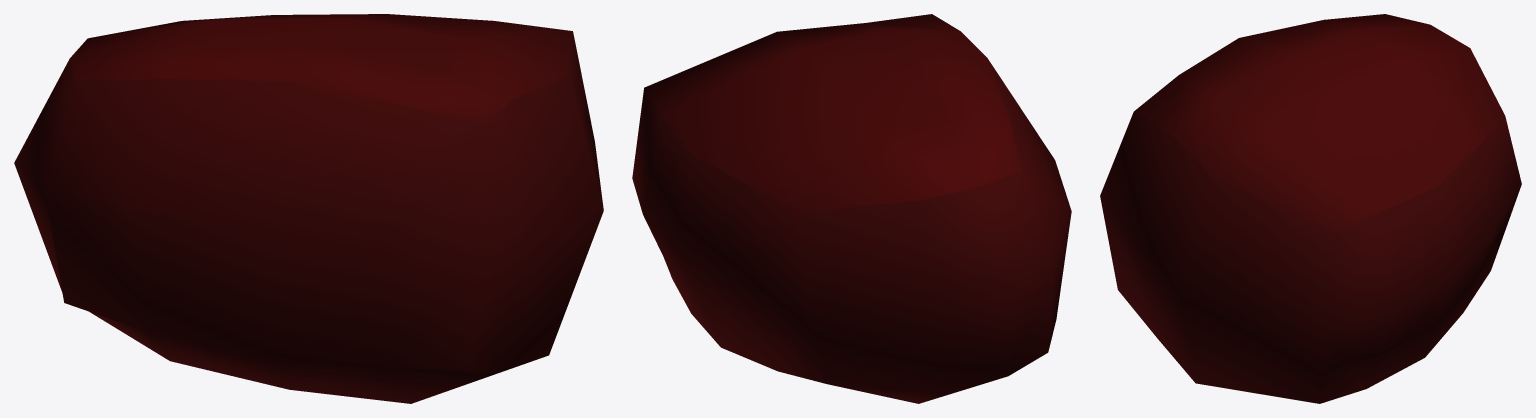
The model's file is geology-pebbles-smalldirtchunk_v7.fbx.
3 views of the same model, side by side, from view 1: azimuth 30°, elevation 25°; view 2: azimuth 150°, elevation 25°; view 3: azimuth 270°, elevation 25° (orthographic). The views are drawn at different scales.
Parts seen in each view (by area): view 1: SmallDirtChunk_v7; view 2: SmallDirtChunk_v7; view 3: SmallDirtChunk_v7.
Boxes of the visible parts, x1,y1,x2,y2 form: SmallDirtChunk_v7: (14,14,603,403); SmallDirtChunk_v7: (632,14,1071,403); SmallDirtChunk_v7: (1100,14,1521,403).
Bounding box in the file's own units: 3.67 × 2.4 × 3.16.
